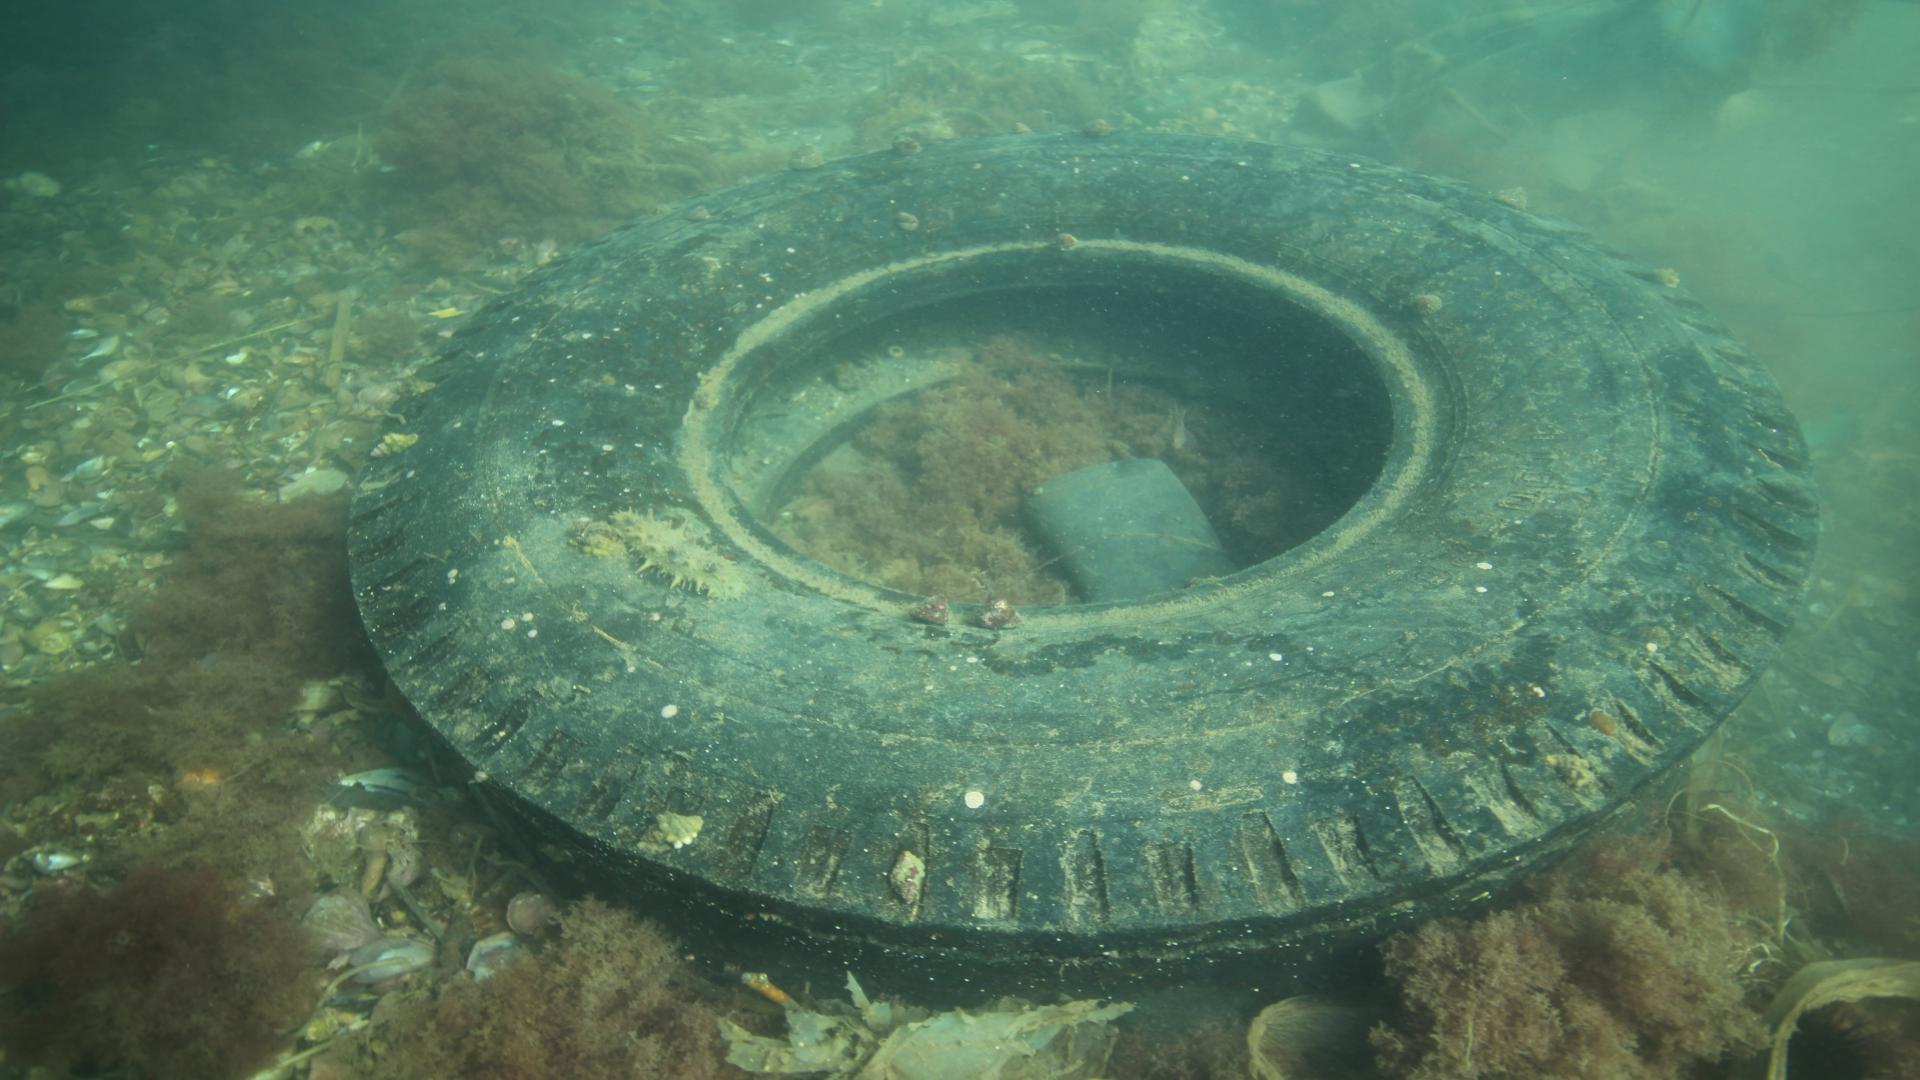tire: (342, 125, 1821, 1009)
